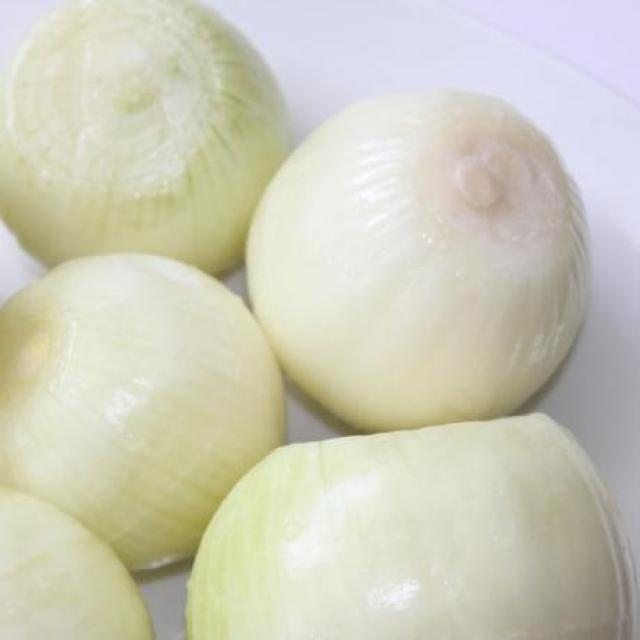Onion: (244, 83, 592, 430), (186, 412, 640, 640), (0, 253, 288, 573), (1, 2, 295, 278), (0, 487, 152, 640)
